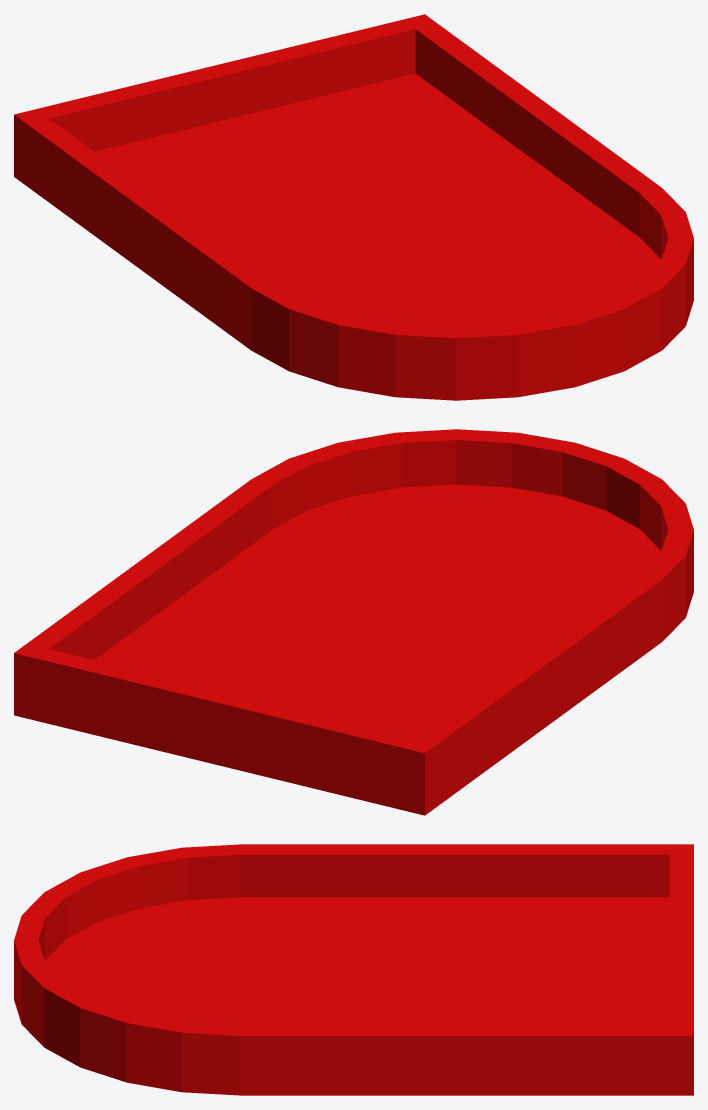
File: diff_drive_shelf.dae
3 renders of one model, top to bottom at view 1: azimuth 30°, elevation 25°; view 2: azimuth 150°, elevation 25°; view 3: azimuth 270°, elevation 25°, orthographic. The views are drawn at different scales.
Parts seen in each view (by area): view 1: Diff_Drive_Base; view 2: Diff_Drive_Base; view 3: Diff_Drive_Base.
Part boxes in pixels (x1,y1,x2,y2): Diff_Drive_Base: (14,14,693,400); Diff_Drive_Base: (14,429,693,815); Diff_Drive_Base: (14,844,693,1095).
Bounding box in the file's own units: 0.0762 × 0.1143 × 0.011.
